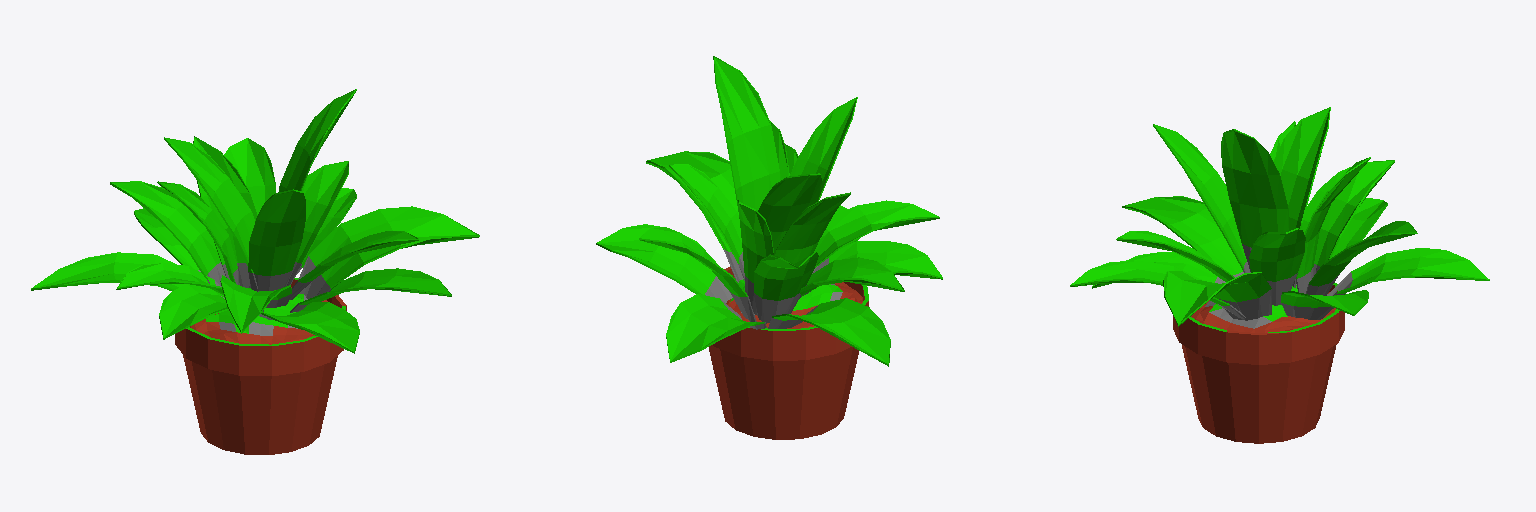
Rendered from lowpoly_plant.obj.
3 renders of one model, left to right at view 1: azimuth 30°, elevation 25°; view 2: azimuth 150°, elevation 25°; view 3: azimuth 270°, elevation 25°, orthographic.
Visible parts, largest first — view 1: Potted_pla; view 2: Potted_pla; view 3: Potted_pla.
Boxes of the visible parts, box(x1,y1,x2,y2) form: Potted_pla: box(31, 89, 479, 454); Potted_pla: box(596, 56, 942, 439); Potted_pla: box(1070, 107, 1489, 443).
Size of the model in its own units: 43.15 by 39.21 by 45.24.